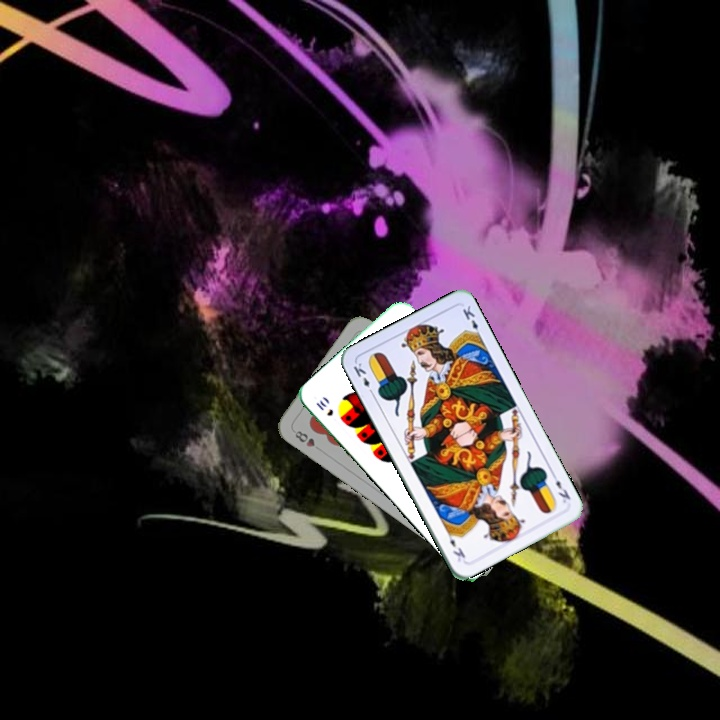EK: (349, 359, 376, 397), (548, 469, 573, 506)
H8: (291, 427, 324, 454)
S10: (312, 396, 336, 419)
